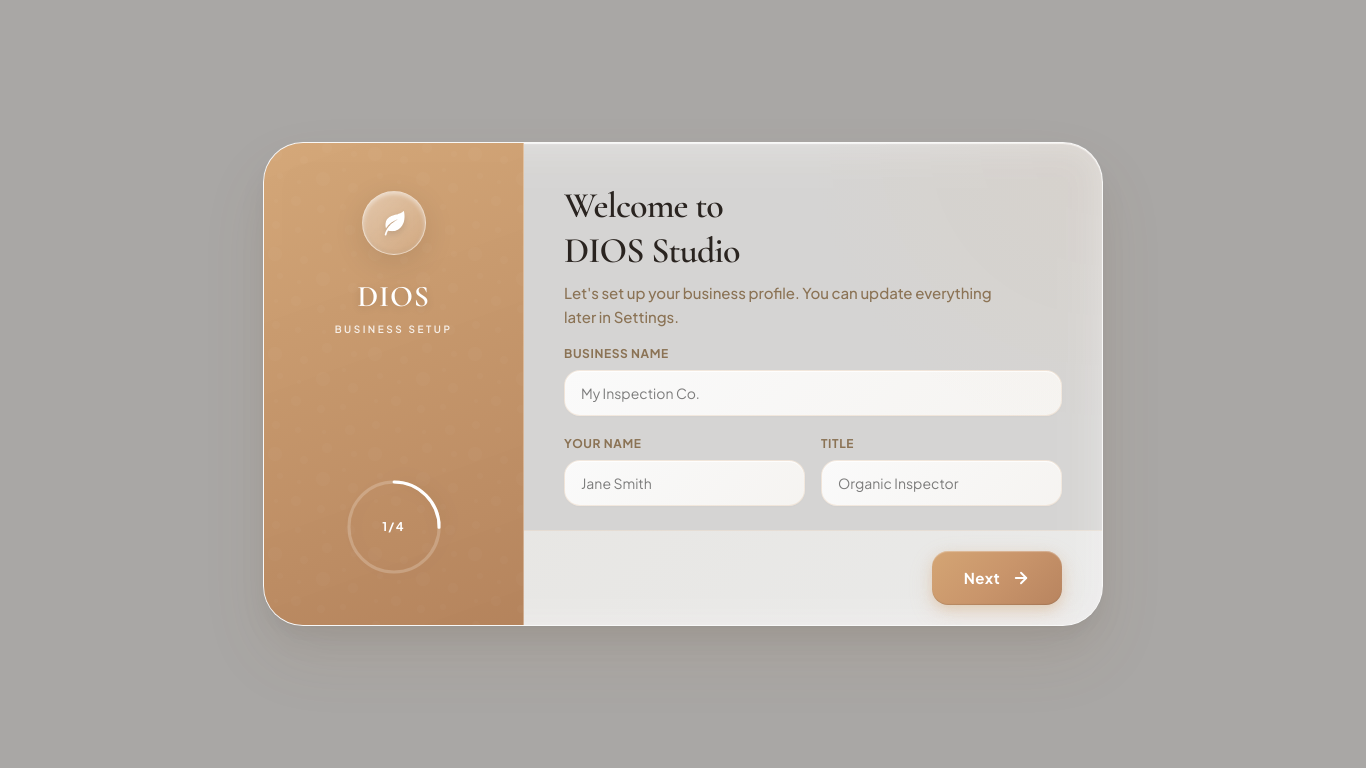
Test: OnboardingWizard › Back button goes back to step 0
The image size is (1366, 768).
Click the button "Next" at coordinates (997, 578), box [932,551,1062,605]
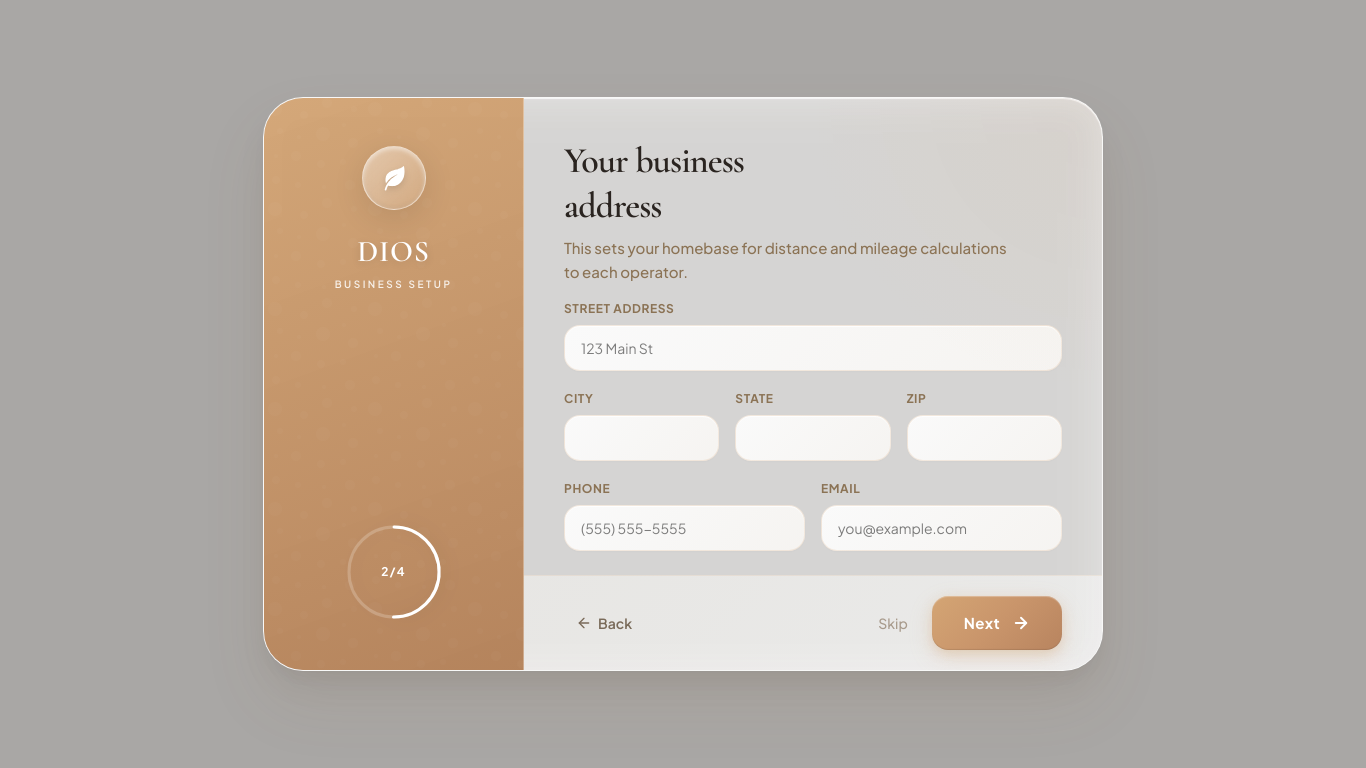
Expected: the text "Street Address" is shown, [564,301,674,316]
Click the button "Back" at coordinates (604, 623), box [564,605,644,641]
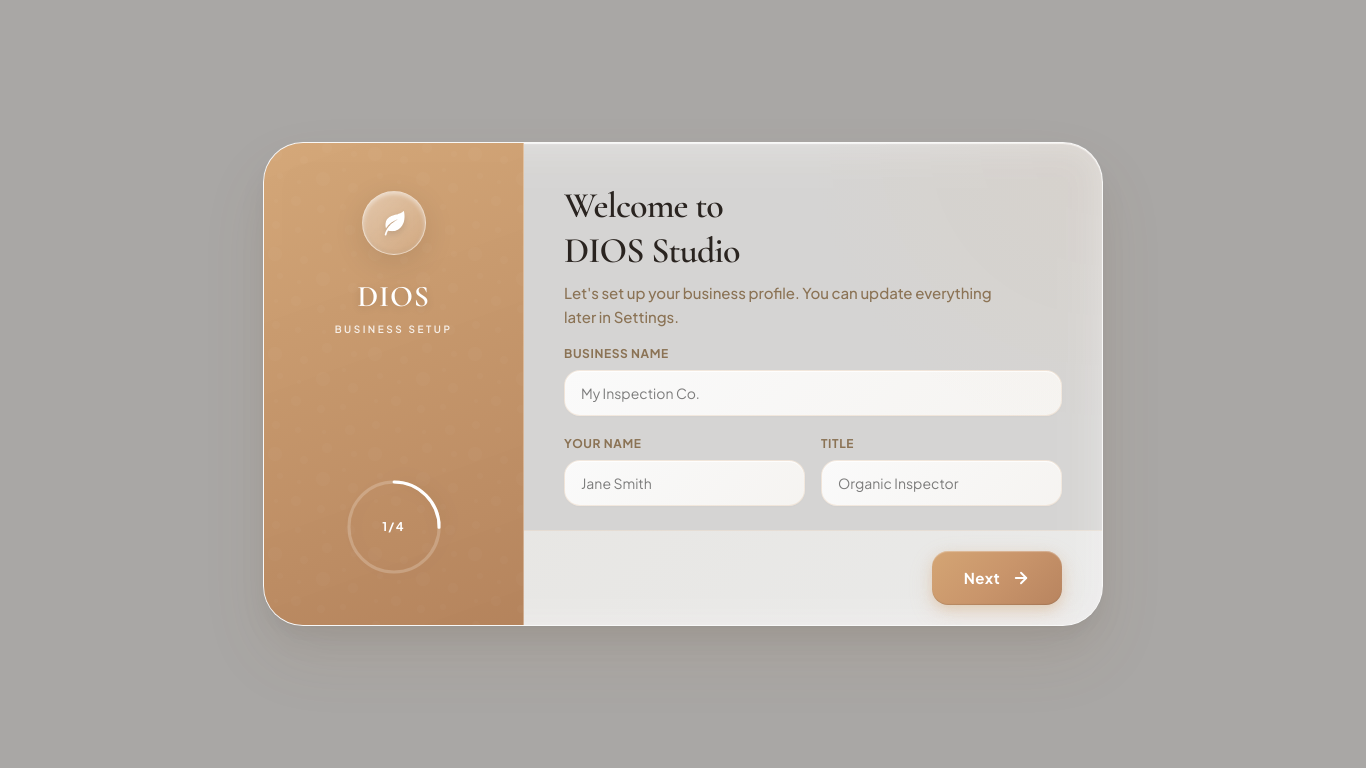
Expected: the heading "Welcome to" is shown, [564,184,723,227]
